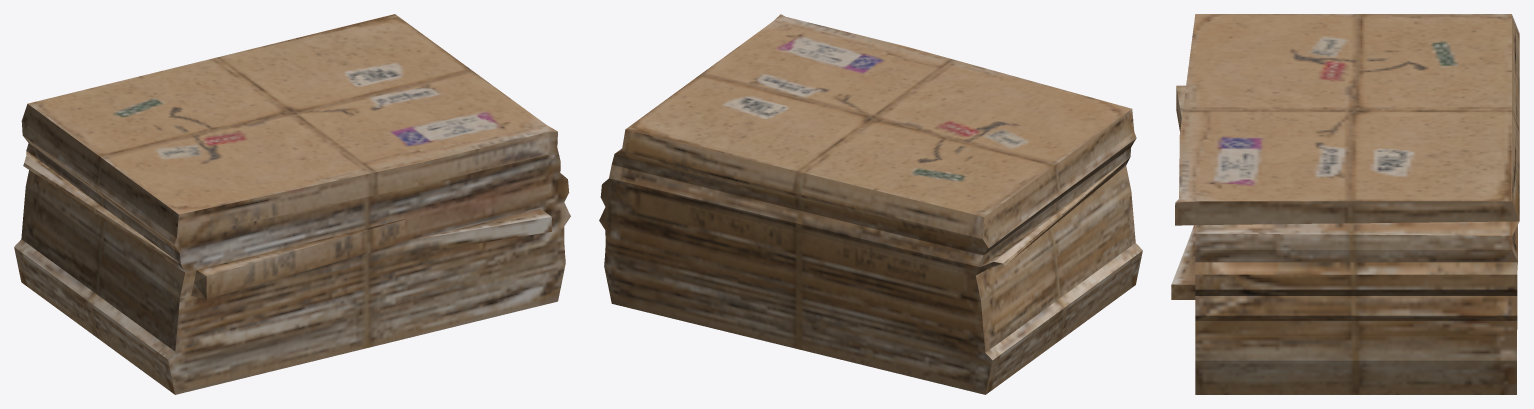
The model's file is DocumentPile.fbx.
3 renders of one model, left to right at view 1: azimuth 30°, elevation 25°; view 2: azimuth 150°, elevation 25°; view 3: azimuth 270°, elevation 25°, orthographic. The views are drawn at different scales.
Parts seen in each view (by area): view 1: DocumentPile_Low; view 2: DocumentPile_Low; view 3: DocumentPile_Low.
Boxes of the visible parts, x1,y1,x2,y2 form: DocumentPile_Low: [14, 14, 570, 394]; DocumentPile_Low: [599, 14, 1142, 394]; DocumentPile_Low: [1171, 14, 1519, 394].
Bounding box in the file's own units: 0.5898 × 0.2502 × 0.4204.
